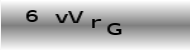6: (25, 9, 38, 22)
G: (106, 22, 122, 35)
V: (67, 10, 83, 23)
r: (91, 18, 102, 28)
v: (54, 13, 68, 24)
